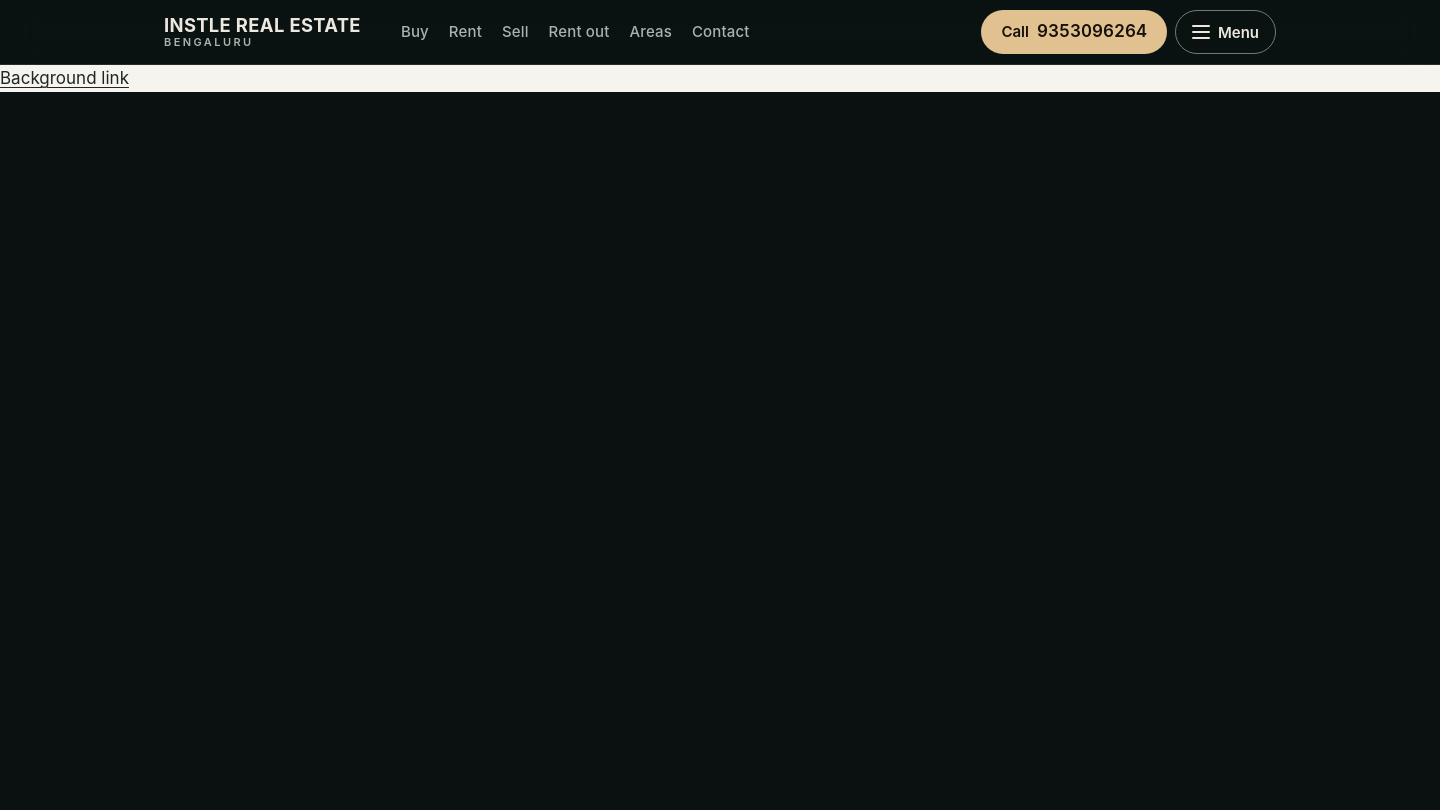
Test case: mobile navigation drawer › closes on Escape and restores focus to the toggle
Click the button "Menu" at (1225, 32), box [1175, 10, 1276, 54]
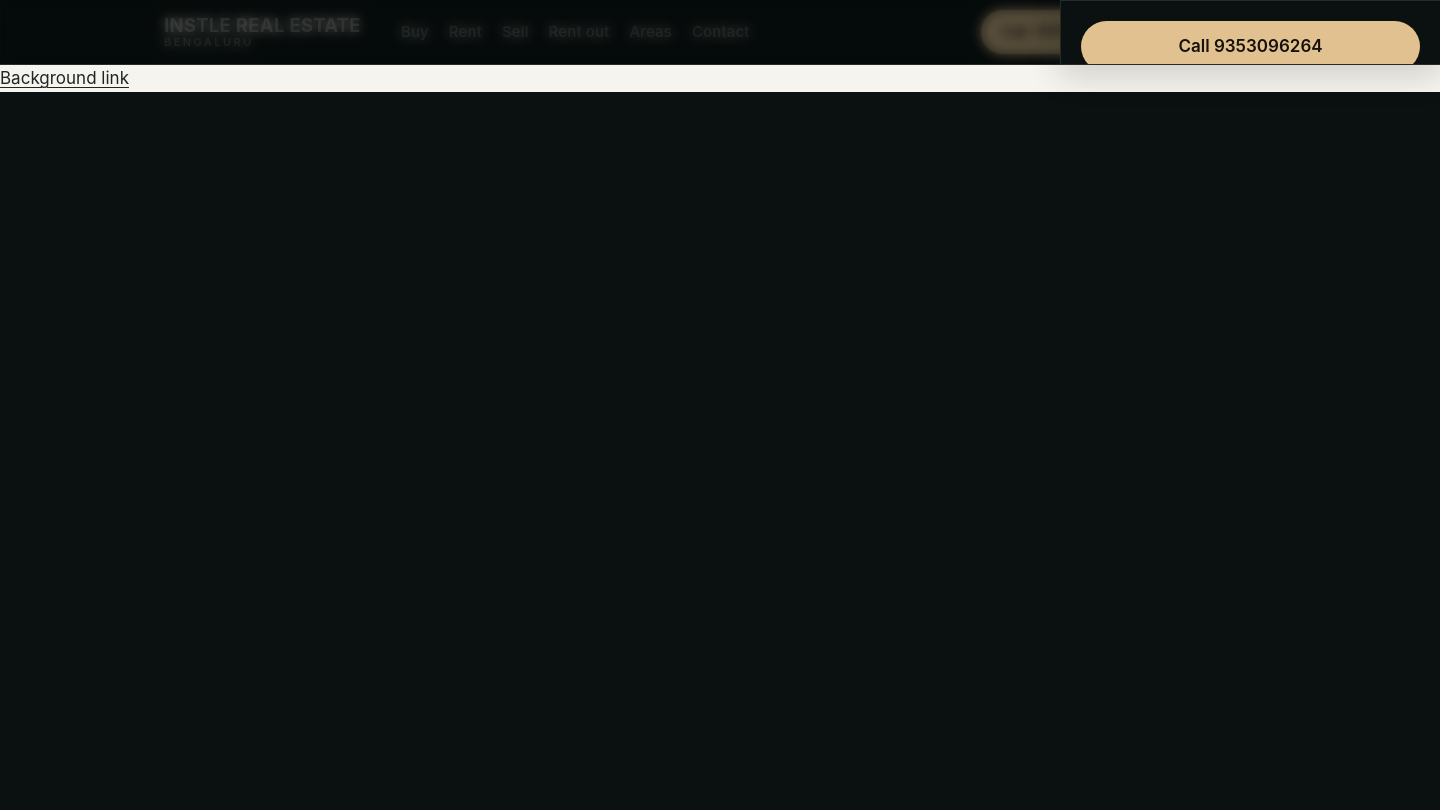
Press Escape
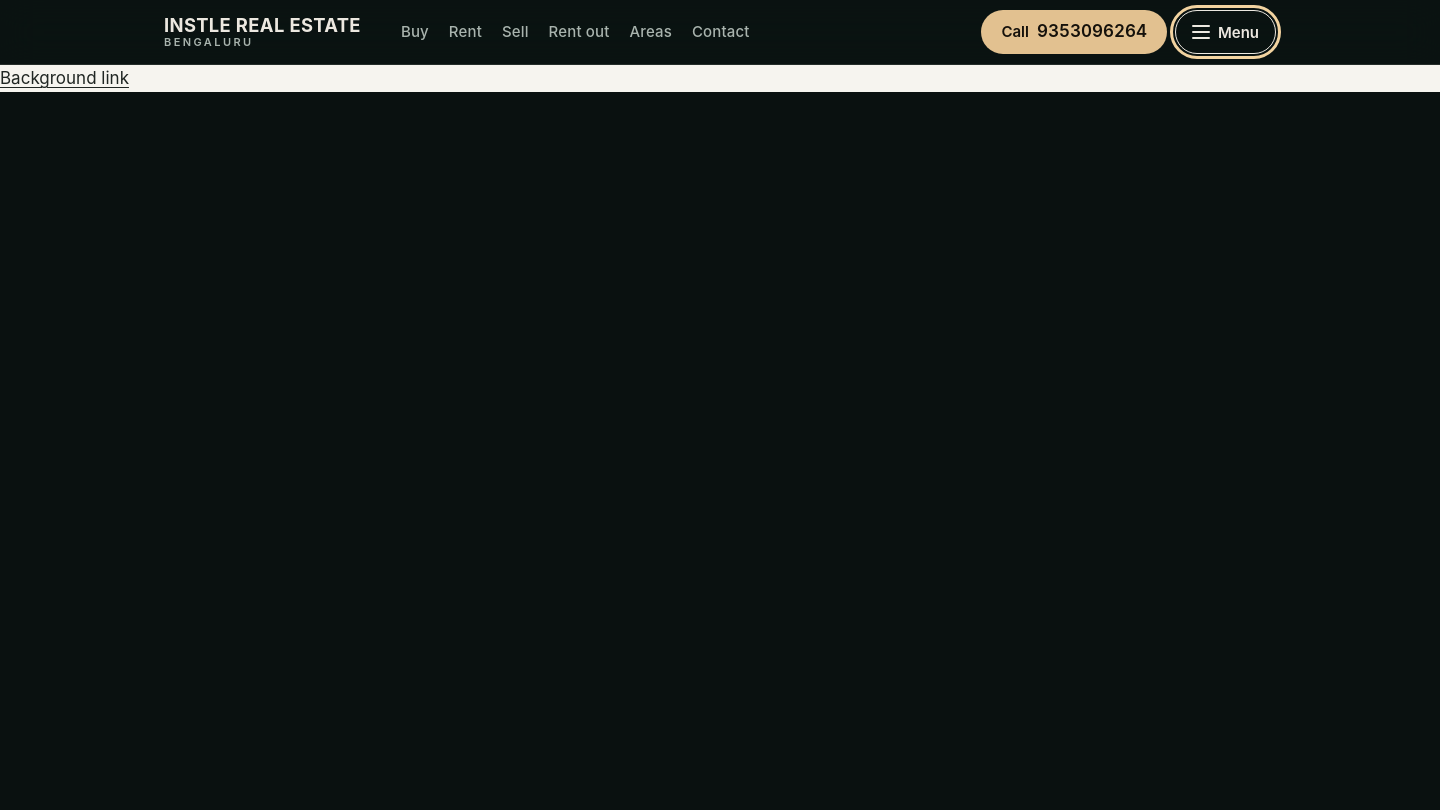
Now the dialog is gone
